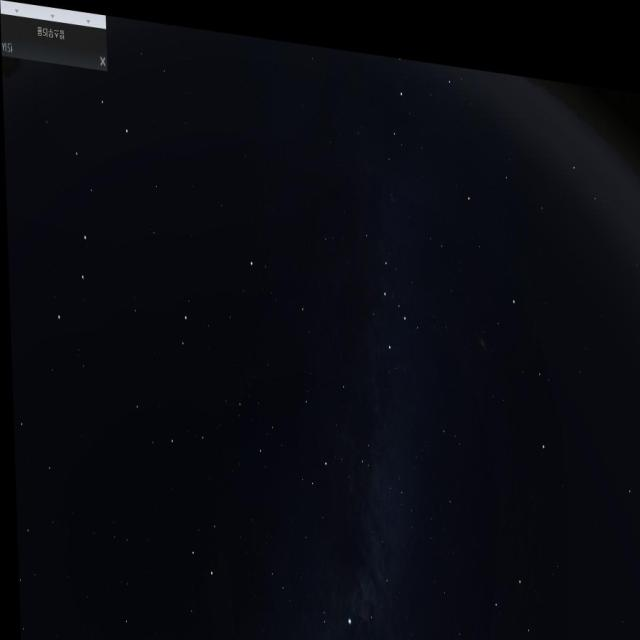cassiopeia: (349, 210, 423, 366)
ursa_major: (40, 75, 153, 368)
